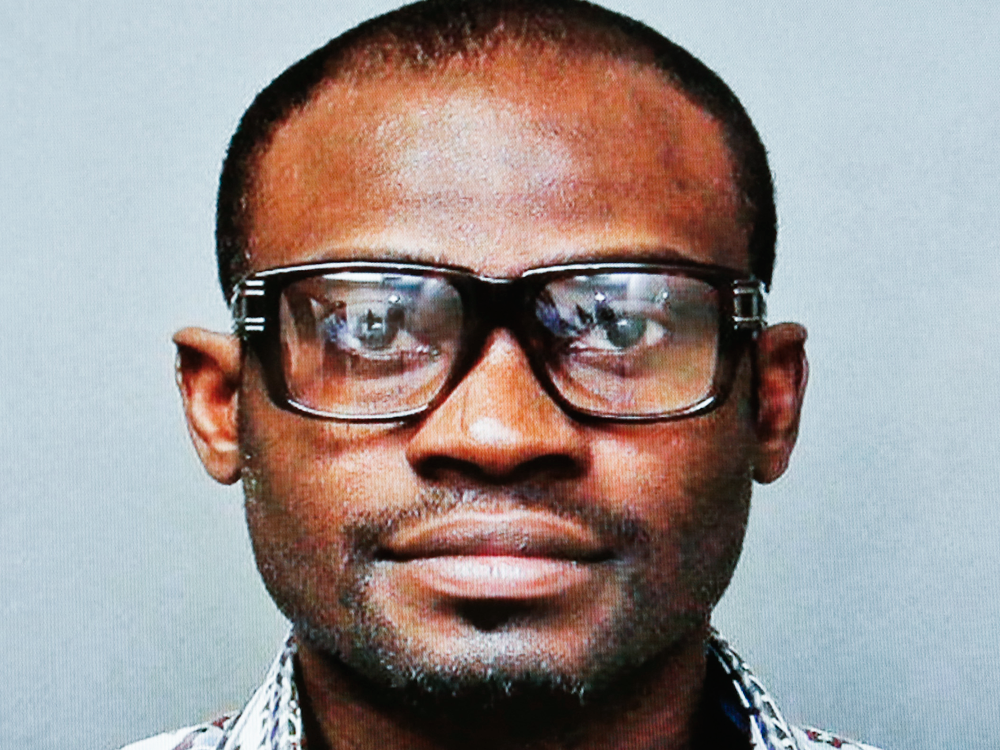human: (98, 1, 935, 750)
